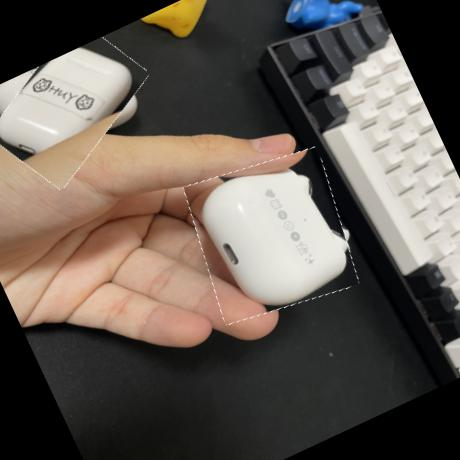airpod2: (0, 27, 168, 194)
airpod3: (172, 134, 372, 336)
